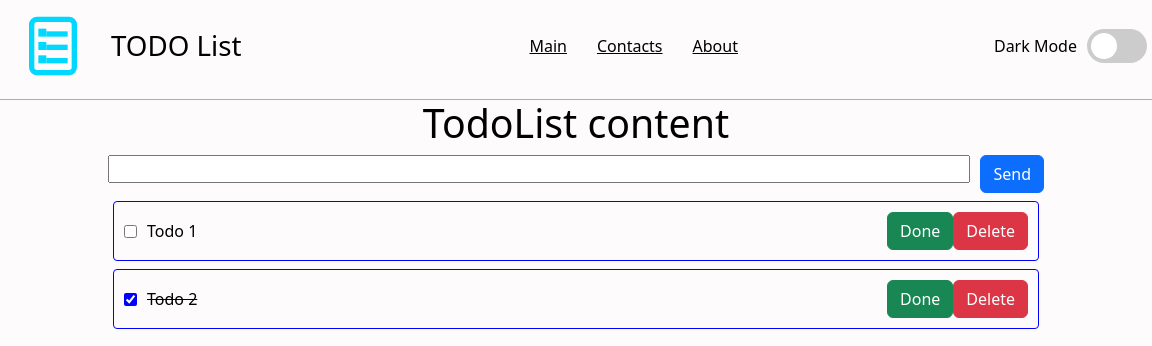
Test: Todo App Integration Tests › shows an error when entering less than 5 characters
Type "abc" into the field at (539, 169), box [108,155,970,183]
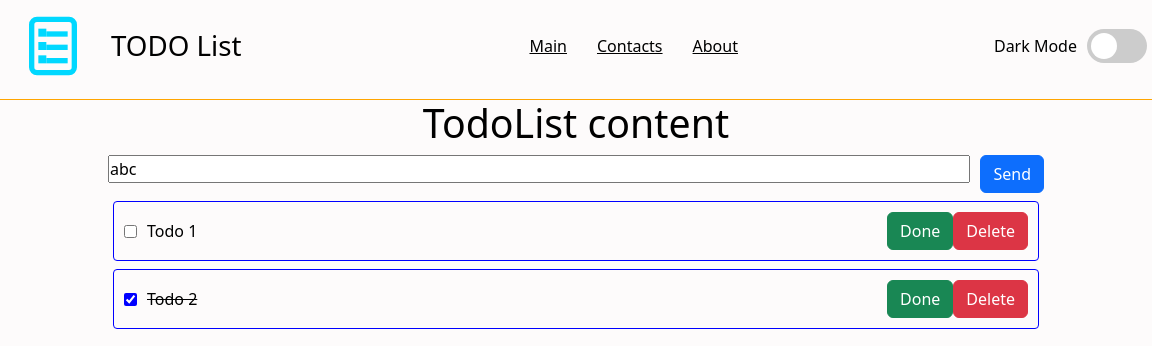
Click the button "Send" at (1012, 174), box [980,155,1044,193]
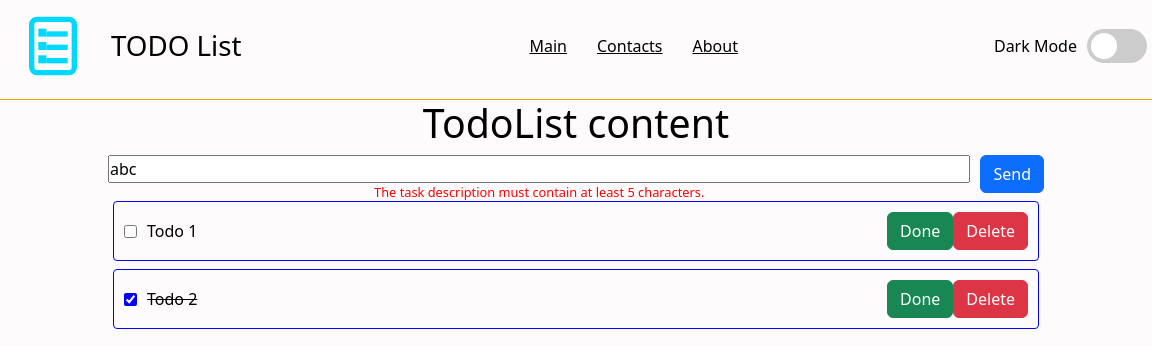
Check: the text "The task description must contain at least 5 characters." is shown, box [374,183,704,201]
